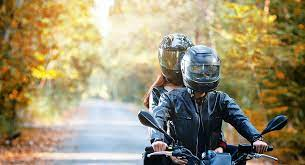helmets: (150, 31, 229, 95)
